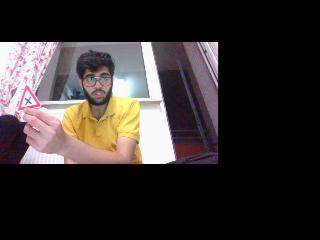intersection: (19, 88, 41, 108)
